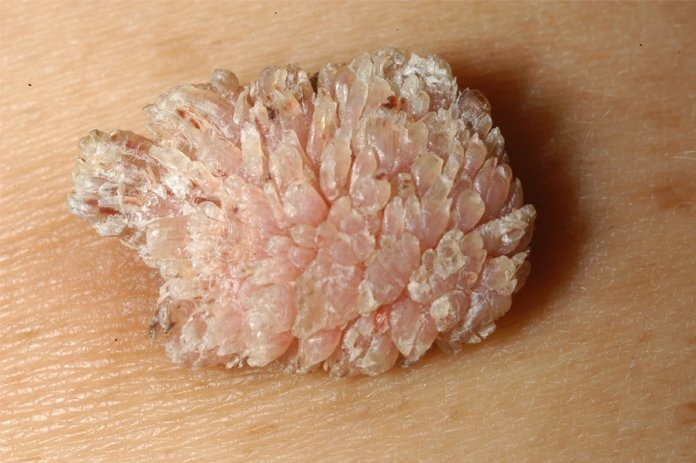Warts: (46, 29, 558, 395)
